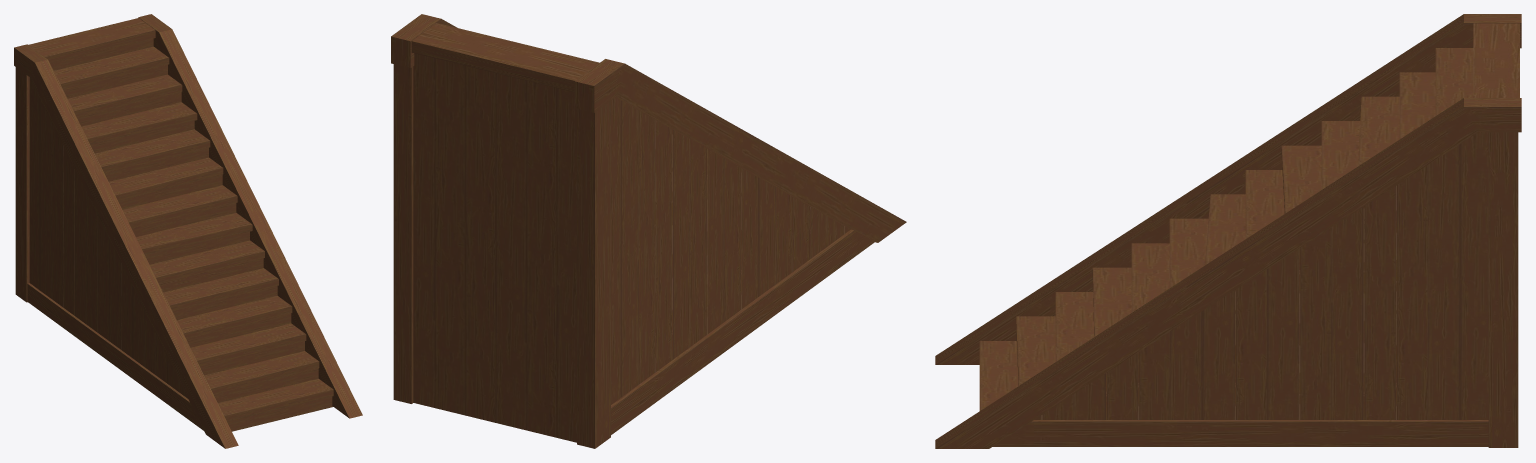
The model's file is stairs_stone.glb.
3 renders of one model, left to right at view 1: azimuth 30°, elevation 25°; view 2: azimuth 150°, elevation 25°; view 3: azimuth 270°, elevation 25°, orthographic. The views are drawn at different scales.
Visible parts, largest first — view 1: Stair_Interior_Solid; view 2: Stair_Interior_Solid; view 3: Stair_Interior_Solid.
Boxes of the visible parts, x1,y1,x2,y2 form: Stair_Interior_Solid: (14,14,362,448); Stair_Interior_Solid: (391,14,906,448); Stair_Interior_Solid: (935,14,1521,448).
Bounding box in the file's own units: 1.77 × 3.05 × 4.71.
1 material, 1 textured.
